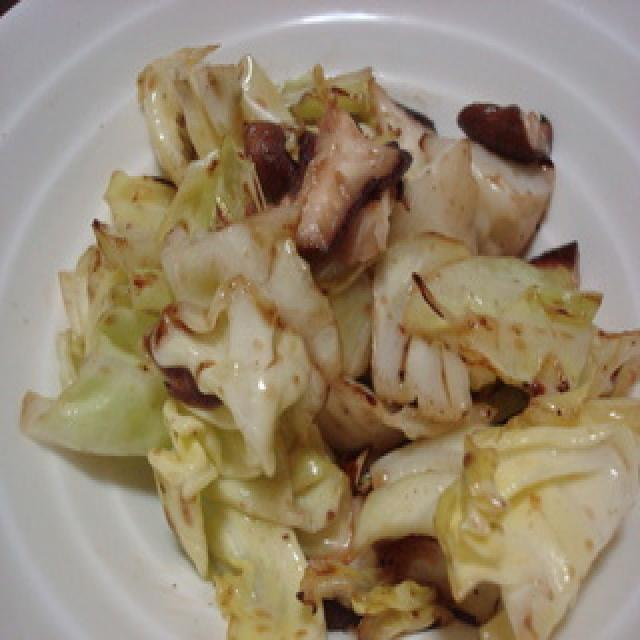蔬菜料理: (28, 37, 640, 640)
